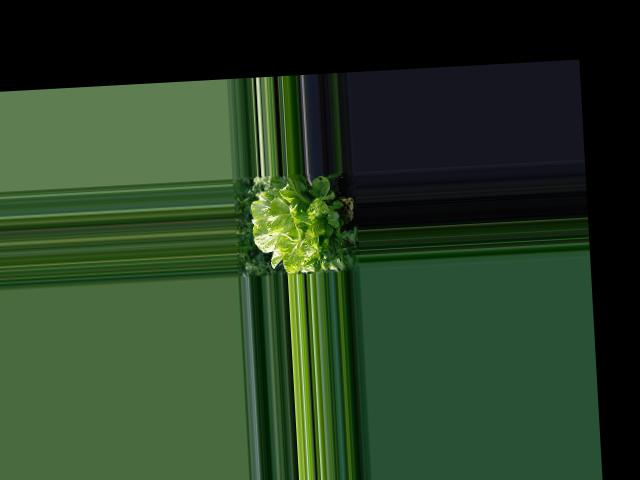lettuce: (250, 175, 339, 266)
